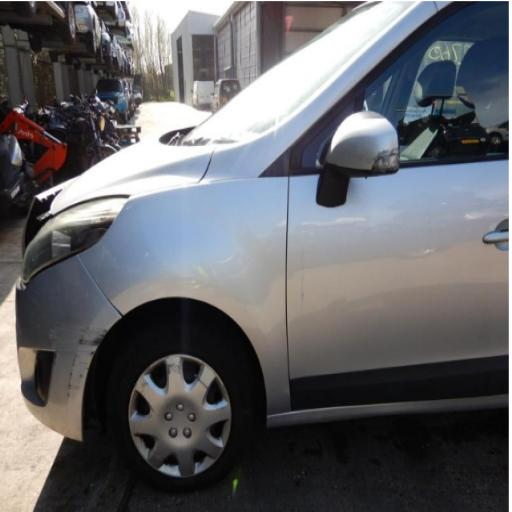scratch: (62, 317, 104, 395)
